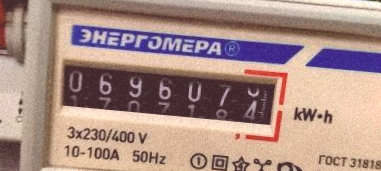0: (65, 67, 84, 92), (184, 76, 202, 102)
4: (240, 96, 258, 122)
6: (155, 74, 174, 100), (95, 70, 114, 95)
7: (214, 81, 231, 108)
9: (125, 73, 143, 98)
screen: (43, 43, 291, 140)
